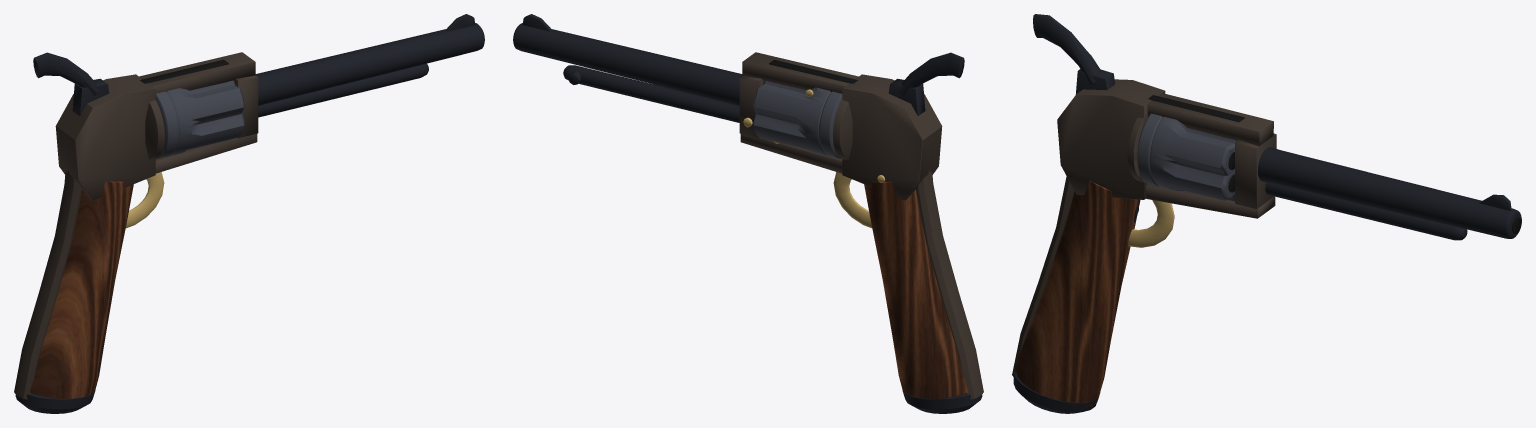
File: gear_frontier_revolver.glb
3 renders of one model, left to right at view 1: azimuth 30°, elevation 25°; view 2: azimuth 150°, elevation 25°; view 3: azimuth 330°, elevation 25°, orthographic. The views are drawn at different scales.
Parts seen in each view (by area): view 1: gear_frontier_revolver; view 2: gear_frontier_revolver; view 3: gear_frontier_revolver.
Boxes of the visible parts, bbox=[...] form: gear_frontier_revolver: bbox=[14, 14, 484, 413]; gear_frontier_revolver: bbox=[513, 14, 983, 413]; gear_frontier_revolver: bbox=[1012, 14, 1521, 413].
Bounding box in the file's own units: 0.2851 × 0.2096 × 0.041.
7 materials, 1 textured.
